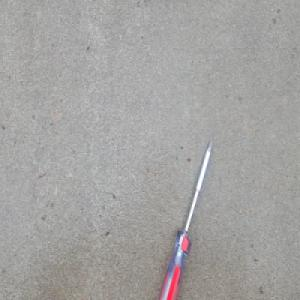Screwdriver: (154, 137, 214, 300)
